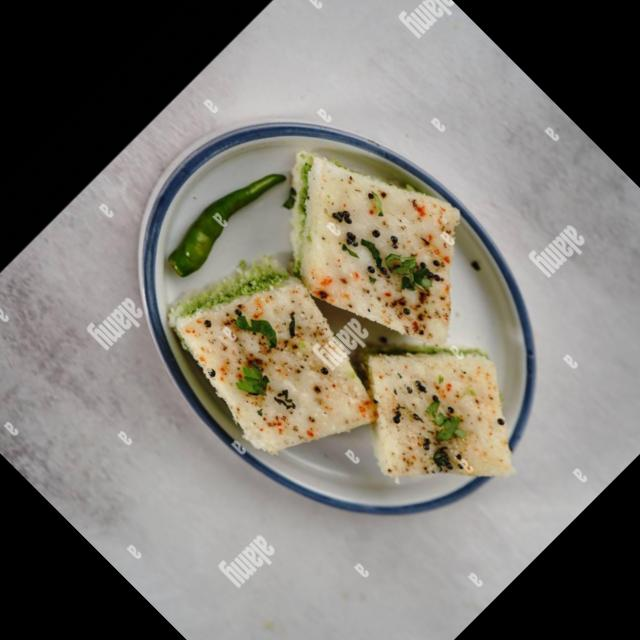dhokla: (106, 96, 604, 594)
